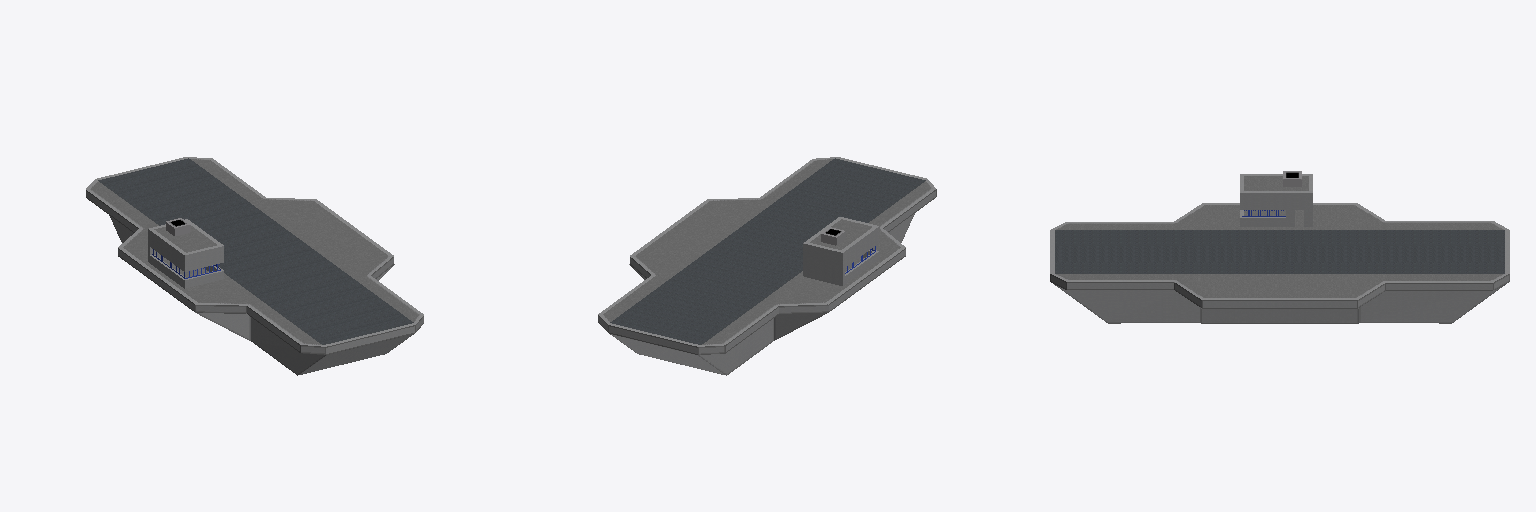
3 renders of one model, left to right at view 1: azimuth 30°, elevation 25°; view 2: azimuth 150°, elevation 25°; view 3: azimuth 270°, elevation 25°, orthographic.
Parts seen in each view (by area): view 1: cylinder[number redacted], cylinder[number redacted], cube2222, cube[number redacted], cube69999; view 2: cylinder[number redacted], cylinder[number redacted], cube114444, cube2222, cube[number redacted]; view 3: cylinder[number redacted], cylinder[number redacted], cube[number redacted], cube[number redacted], cube[number redacted].
Boxes of the visible parts, x1=… form: cylinder[number redacted]: x1=86, y1=157, x2=423, y2=354; cylinder[number redacted]: x1=109, y1=215, x2=413, y2=375; cube2222: x1=150, y1=230, x2=188, y2=271; cube[number redacted]: x1=154, y1=226, x2=216, y2=252; cube69999: x1=187, y1=245, x2=219, y2=270; cylinder[number redacted]: x1=598, y1=157, x2=936, y2=354; cylinder[number redacted]: x1=610, y1=213, x2=914, y2=375; cube114444: x1=803, y1=242, x2=844, y2=285; cube2222: x1=842, y1=225, x2=879, y2=267; cube[number redacted]: x1=810, y1=219, x2=871, y2=249; cylinder[number redacted]: x1=1050, y1=203, x2=1509, y2=308; cylinder[number redacted]: x1=1054, y1=284, x2=1505, y2=323; cube[number redacted]: x1=1240, y1=191, x2=1308, y2=209; cube[number redacted]: x1=1244, y1=176, x2=1308, y2=190; cube[number redacted]: x1=1240, y1=216, x2=1294, y2=226.
Bounding box in the file's own units: 25 × 11 × 50.
1 materials, 1 textured.